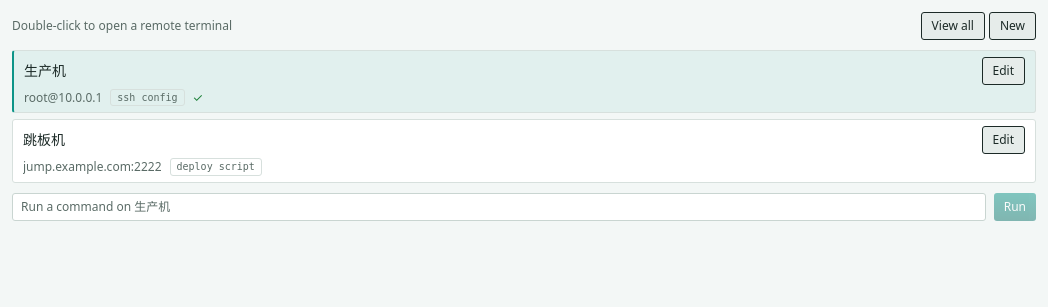
Test case: SshPanel › 查看全部用空 wsID 拉全局连接，切回当前项目再带工作区路径
Click the button "View all": click(953, 26) [921,12,985,40]
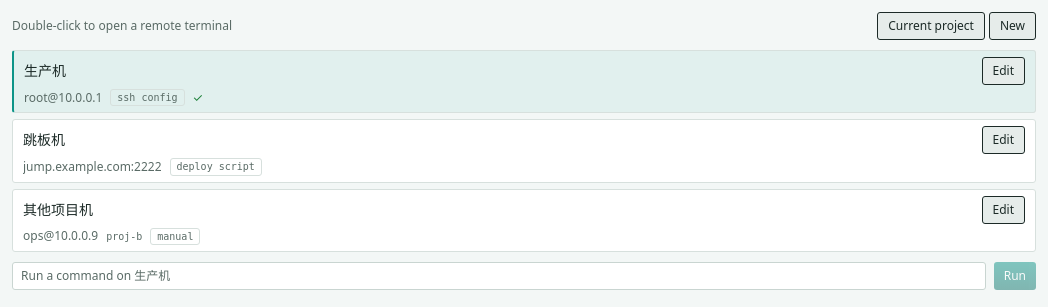
Expected: the button "其他项目机" is shown, [23,200,93,220]
Expected: the text "proj-b" is shown, [106,230,142,243]
Click the button "Current project": click(931, 26) [877,12,985,40]
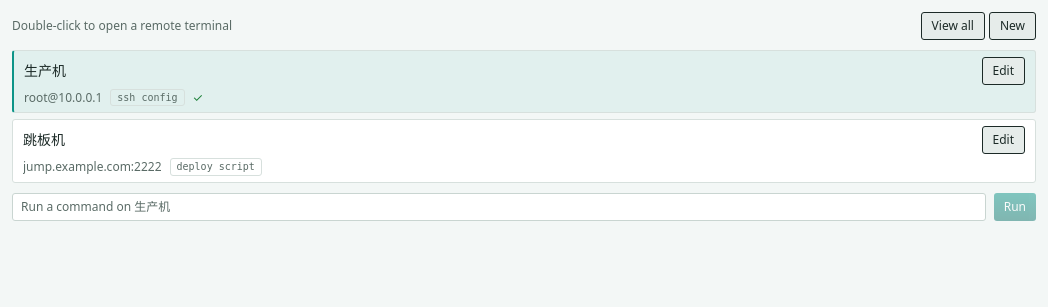
Expected: the button "其他项目机" is gone
